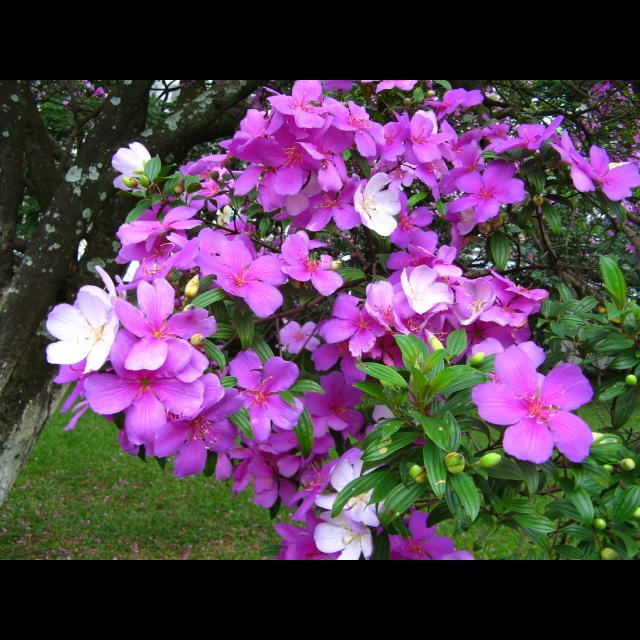Flower: (44, 80, 640, 560)
